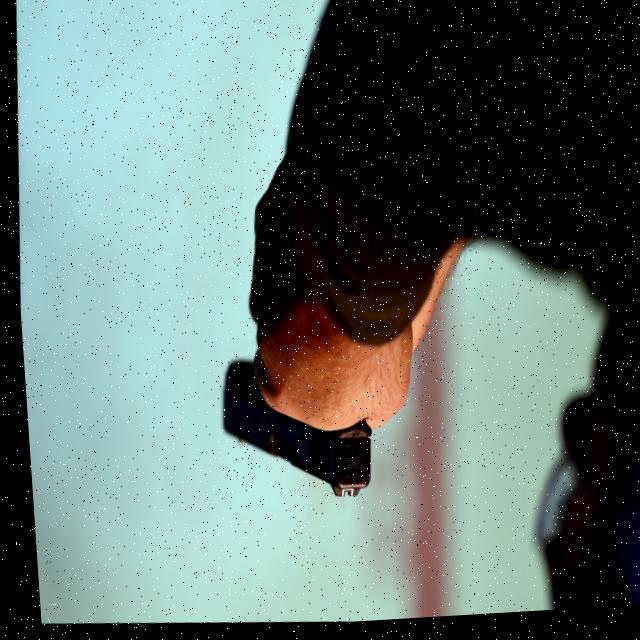pistol: (206, 349, 373, 512)
